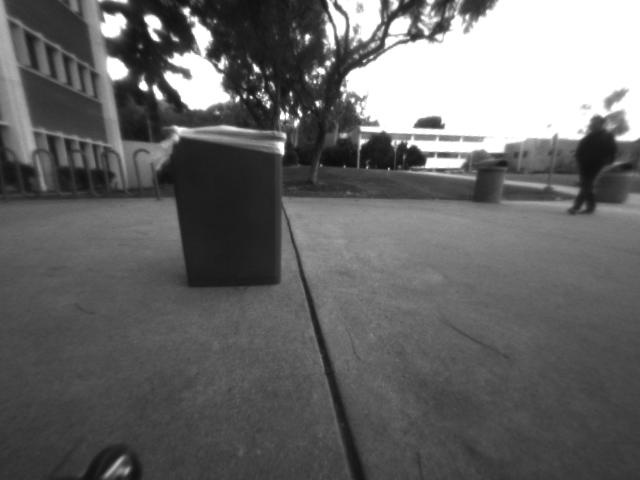trashcan_open: (154, 118, 298, 296)
